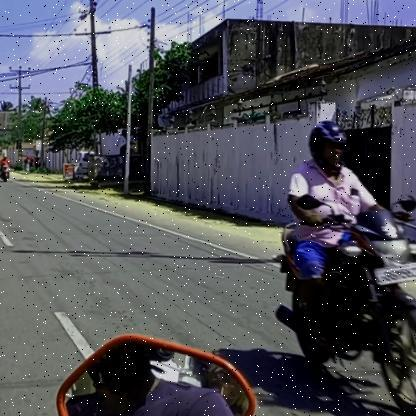motorcycle: (267, 209, 416, 416)
